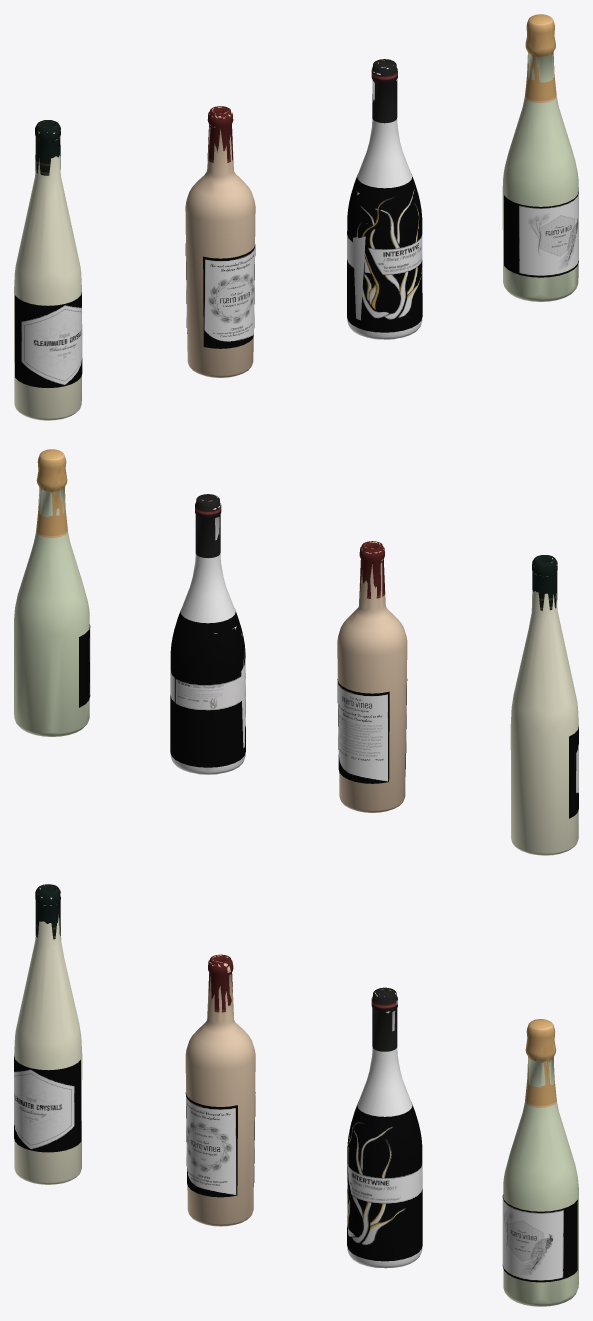
Rendered from wine_bottles_01.glb.
The picture shows the model from 3 angles, top to bottom: view 1: azimuth 30°, elevation 25°; view 2: azimuth 150°, elevation 25°; view 3: azimuth 330°, elevation 25°; orthographic projection.
Visible parts, largest first — view 1: wine_bottles_01_bordeaux, wine_bottles_01_burgundy, wine_bottles_01_alsace, wine_bottles_01_champagne; view 2: wine_bottles_01_bordeaux, wine_bottles_01_burgundy, wine_bottles_01_champagne, wine_bottles_01_alsace; view 3: wine_bottles_01_bordeaux, wine_bottles_01_burgundy, wine_bottles_01_alsace, wine_bottles_01_champagne.
Boxes of the visible parts, box(x1,y1,x2,y2) form: wine_bottles_01_bordeaux: box(14, 14, 578, 420); wine_bottles_01_burgundy: box(347, 174, 422, 332); wine_bottles_01_alsace: box(15, 292, 82, 387); wine_bottles_01_champagne: box(504, 191, 578, 277); wine_bottles_01_bordeaux: box(14, 449, 578, 855); wine_bottles_01_burgundy: box(170, 609, 245, 767); wine_bottles_01_champagne: box(79, 624, 90, 707); wine_bottles_01_alsace: box(569, 727, 578, 818); wine_bottles_01_bordeaux: box(14, 884, 578, 1306); wine_bottles_01_burgundy: box(347, 1102, 422, 1261); wine_bottles_01_alsace: box(14, 1056, 81, 1152); wine_bottles_01_champagne: box(502, 1194, 577, 1282).
Size of the model in its own units: 0.6763 by 0.3314 by 0.0805.
9 materials, 6 textured.
